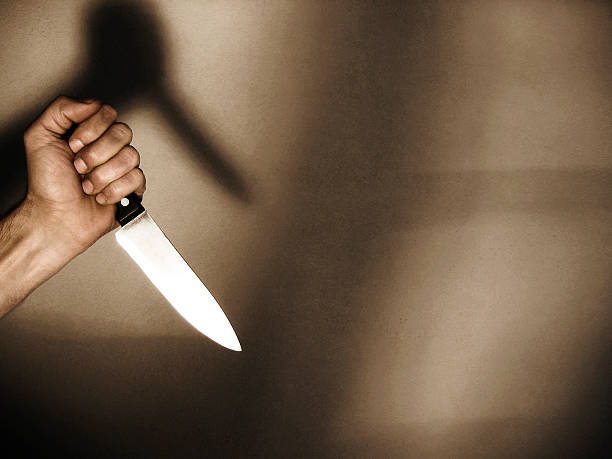knife: (112, 209, 247, 354)
